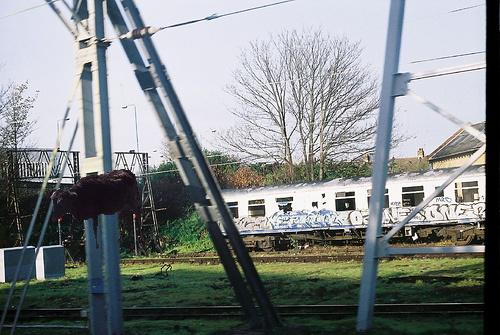tampered: (47, 170, 144, 249)
